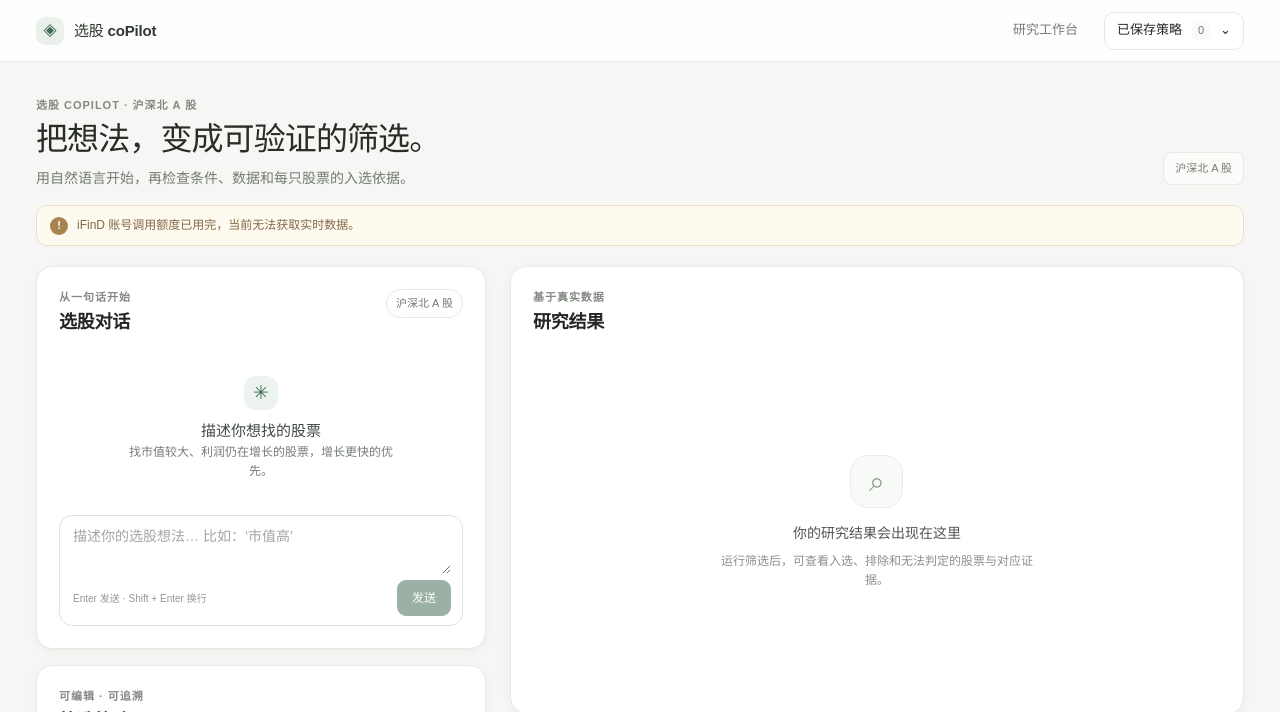
Scenario: CopilotWorkspace › shows one concise unsupported-indicator message without internal details
Type "找 ROE 高的股票" into the text box named "请输入选股需求" at (262, 550), box [73, 526, 451, 574]
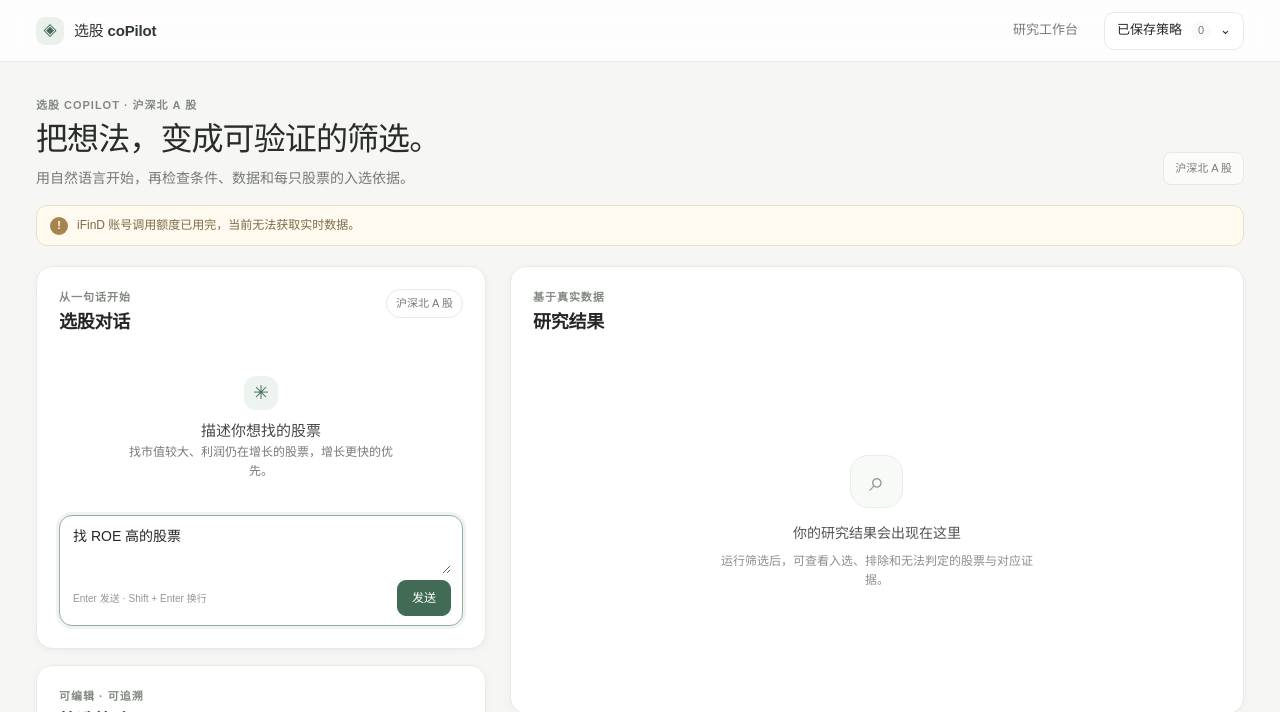
Click the button "发送" at (424, 598), box [397, 580, 451, 616]
(page scrolled)
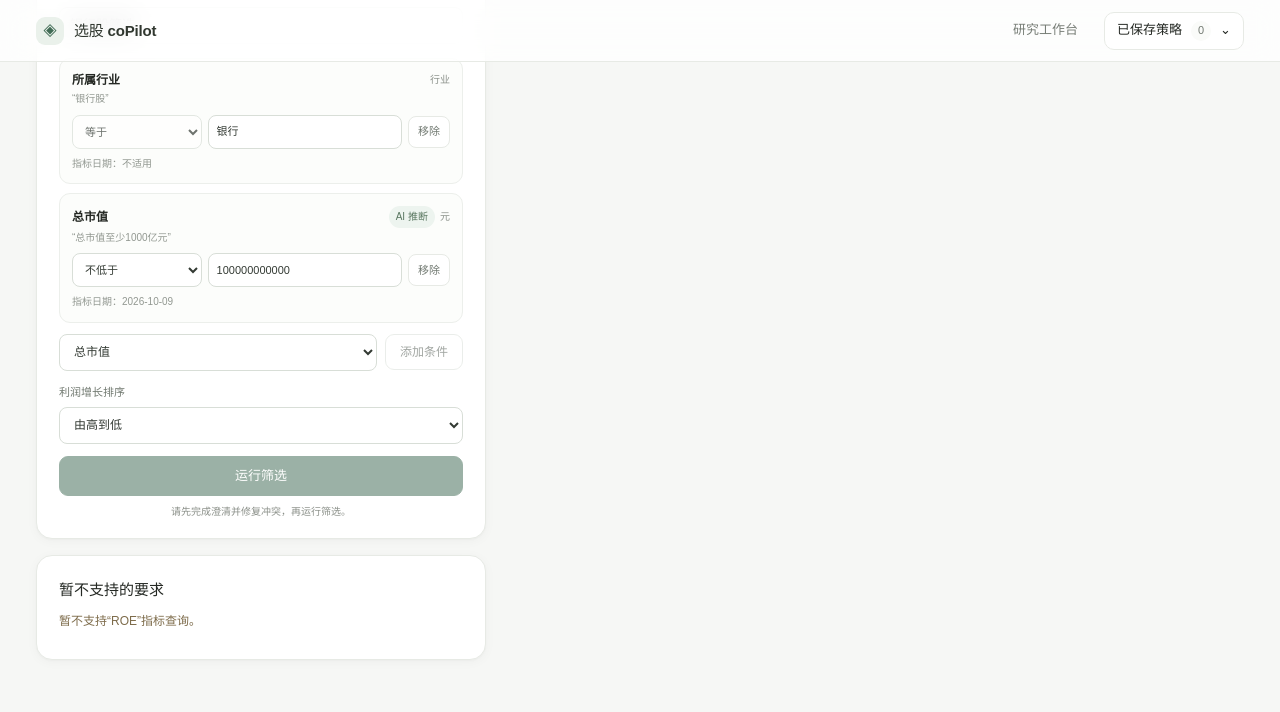
expect the text "暂不支持“ROE”指标查询。" is shown: met, box [59, 614, 201, 628]
